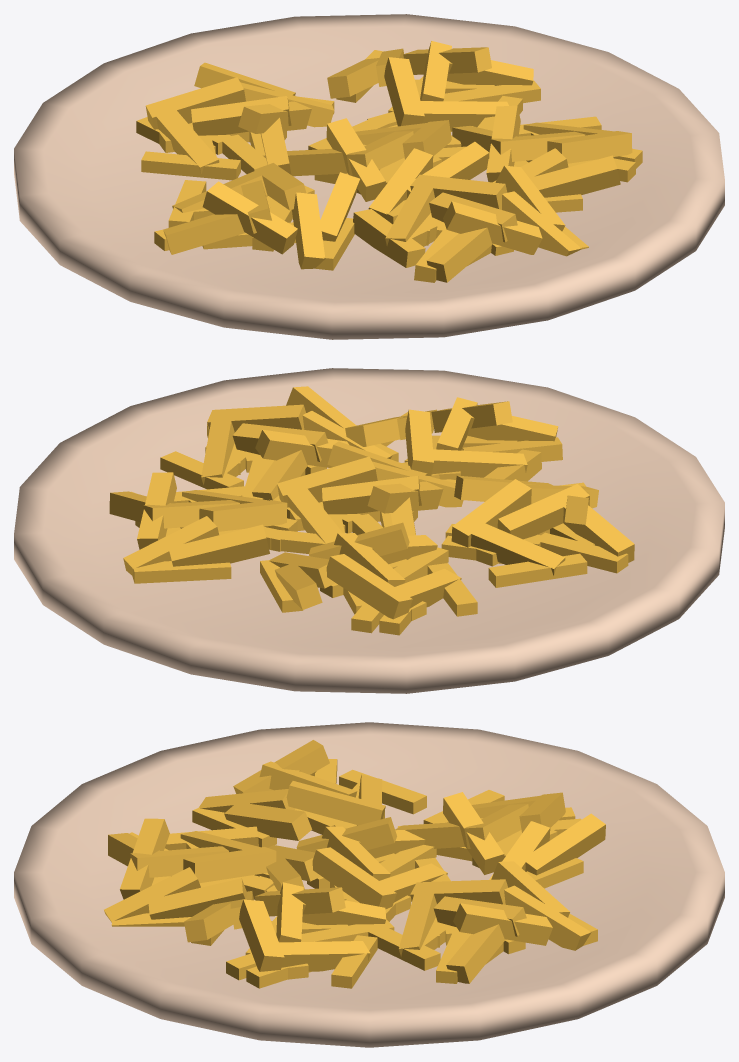
The model's file is RawPizza(With Cheese).glb.
3 renders of one model, top to bottom at view 1: azimuth 30°, elevation 25°; view 2: azimuth 150°, elevation 25°; view 3: azimuth 270°, elevation 25°, orthographic.
Parts seen in each view (by area): view 1: Cube.146; view 2: Cube.146; view 3: Cube.146.
Boxes of the visible parts, <box> form: Cube.146: <box>14,14,724,339</box>; Cube.146: <box>14,368,724,693</box>; Cube.146: <box>14,722,724,1047</box>.
Size of the model in its own units: 0.8833 by 0.0988 by 0.8833.
